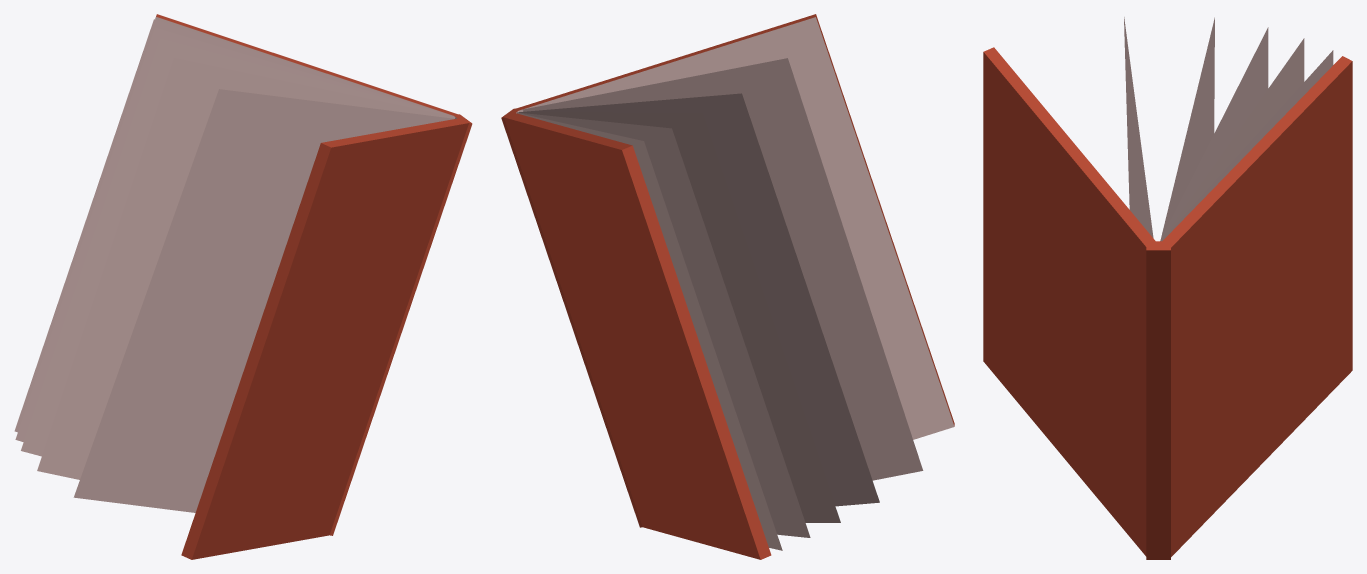
The model's file is redbook.glb.
3 renders of one model, left to right at view 1: azimuth 30°, elevation 25°; view 2: azimuth 150°, elevation 25°; view 3: azimuth 270°, elevation 25°, orthographic.
Visible parts, largest first — view 1: Cube.002, Plane.004, Plane.003, Plane, Plane.001, Plane.002, Cube.003, Cube.001; view 2: Cube.001, Plane.004, Cube.002, Plane.003, Plane, Plane.001, Plane.002, Cube.003; view 3: Cube.001, Cube.002, Cube.003, Plane, Plane.001, Plane.003, Plane.004, Plane.002.
Boxes of the visible parts, box(x1,y1,x2,y2) form: Cube.002: box(181, 118, 470, 559); Plane.004: box(73, 89, 454, 512); Plane.003: box(37, 58, 453, 479); Plane: box(21, 39, 455, 456); Plane.001: box(15, 27, 452, 441); Plane.002: box(14, 19, 451, 432); Cube.003: box(330, 114, 472, 535); Cube.001: box(155, 14, 460, 116); Cube.001: box(503, 113, 771, 559); Plane.004: box(523, 58, 923, 480); Cube.002: box(513, 14, 954, 439); Plane.003: box(519, 93, 879, 506); Plane: box(518, 112, 840, 522); Plane.001: box(517, 112, 810, 537); Plane.002: box(517, 112, 782, 550); Cube.003: box(501, 108, 642, 527); Cube.001: box(1159, 56, 1352, 556); Cube.002: box(983, 47, 1157, 556); Cube.003: box(1146, 241, 1170, 559); Plane: box(1160, 27, 1268, 241); Plane.001: box(1161, 38, 1304, 240); Plane.003: box(1160, 17, 1214, 239); Plane.004: box(1124, 17, 1153, 237); Plane.002: box(1161, 50, 1333, 241).
Size of the model in its own units: 2.92 by 3.34 by 2.31.
